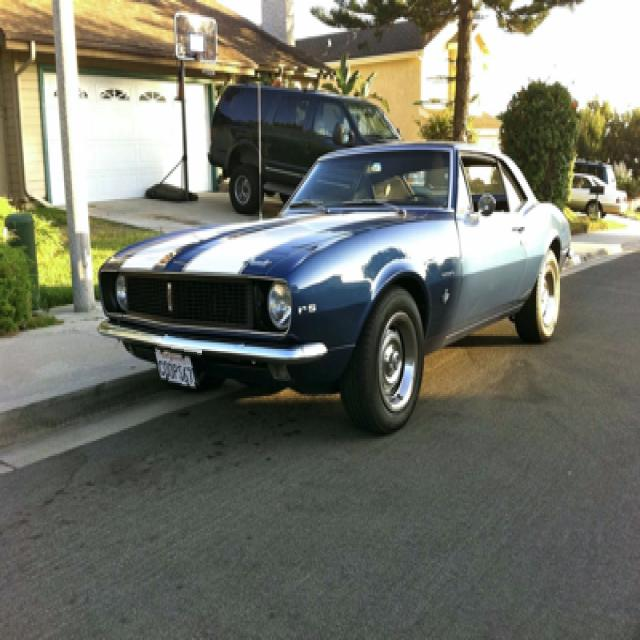licence: (150, 344, 202, 390)
